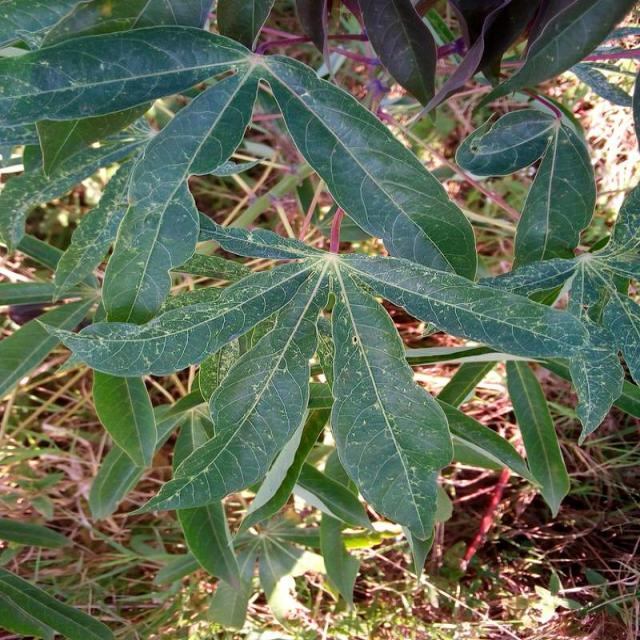cassava leaf: (2, 2, 640, 622), (262, 52, 480, 283), (330, 283, 456, 577)
